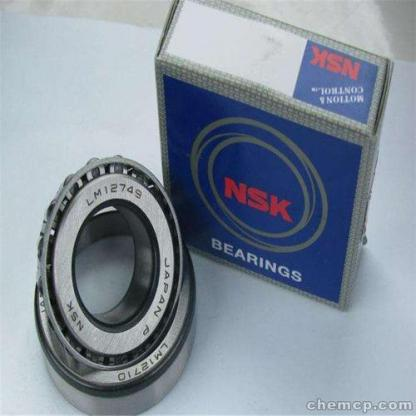FOD: (32, 199, 200, 415), (31, 152, 184, 380)
